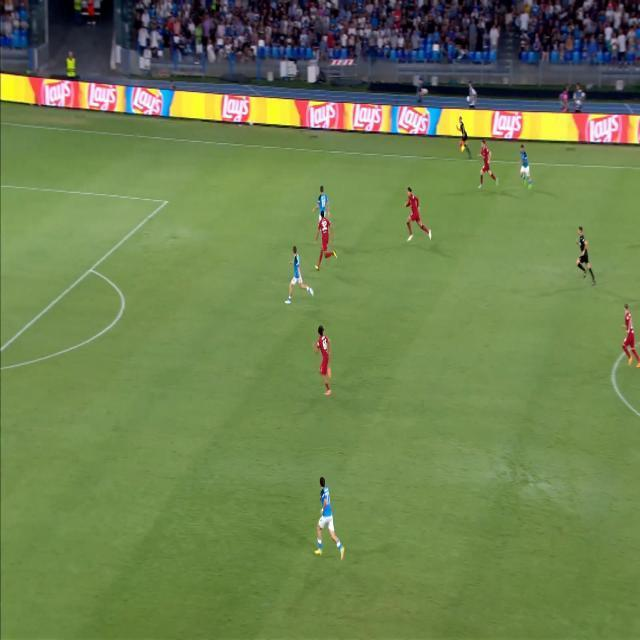player: (303, 478, 347, 561), (308, 320, 336, 397), (283, 244, 315, 305), (402, 184, 434, 244), (620, 298, 640, 376), (317, 212, 338, 270), (477, 140, 500, 189), (314, 177, 330, 234), (517, 144, 533, 194)
referee: (569, 227, 599, 289), (454, 114, 472, 157)
